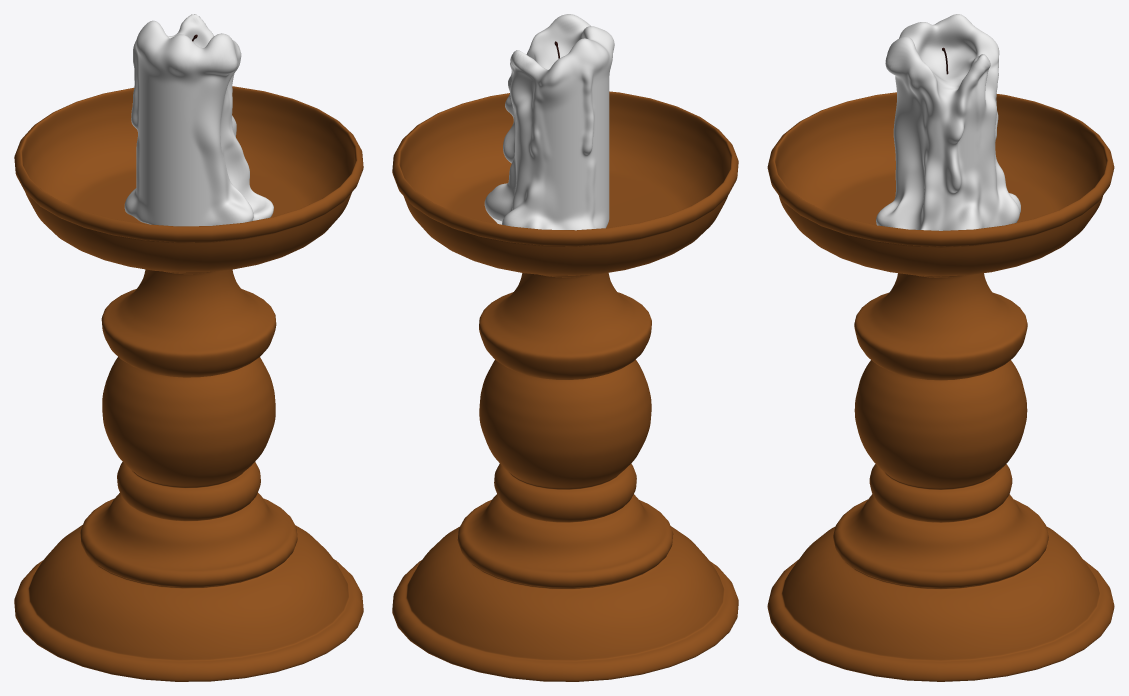
File: candle stick.fbx
3 renders of one model, left to right at view 1: azimuth 30°, elevation 25°; view 2: azimuth 150°, elevation 25°; view 3: azimuth 270°, elevation 25°, orthographic.
Visible parts, largest first — view 1: CANDLE STICK, candle; view 2: CANDLE STICK, candle; view 3: CANDLE STICK, candle.
Boxes of the visible parts, box(x1,y1,x2,y2) form: CANDLE STICK: box(14, 86, 363, 681); candle: box(124, 14, 273, 226); CANDLE STICK: box(392, 91, 738, 681); candle: box(484, 14, 614, 230); CANDLE STICK: box(767, 92, 1114, 681); candle: box(876, 14, 1020, 230).
Bounding box in the file's own units: 21.6 × 39.97 × 21.6.
